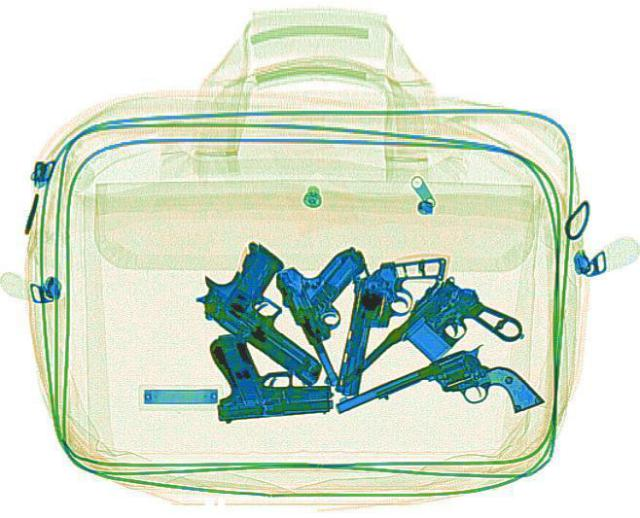Gun: (178, 234, 378, 393), (327, 330, 546, 469), (348, 266, 530, 421), (269, 246, 403, 384), (334, 246, 446, 399), (206, 324, 334, 419)
